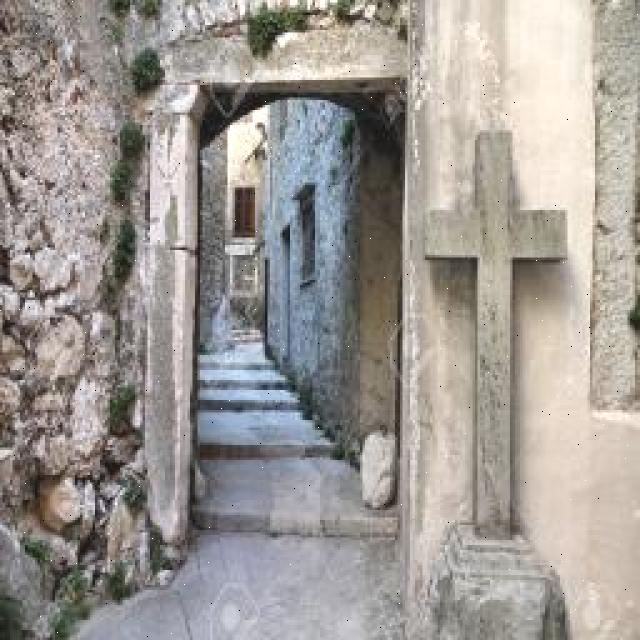dampness: (1, 238, 164, 633), (3, 96, 116, 285), (2, 283, 105, 456)
vegetation: (108, 0, 403, 66), (105, 12, 165, 285), (129, 48, 165, 93)
